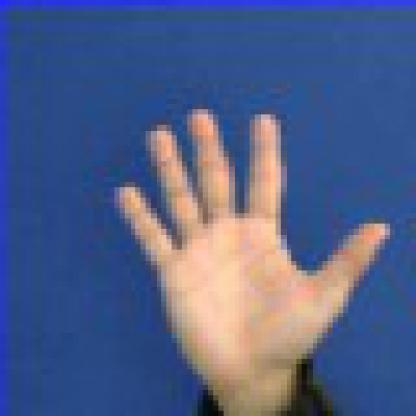five: (100, 96, 398, 398)
